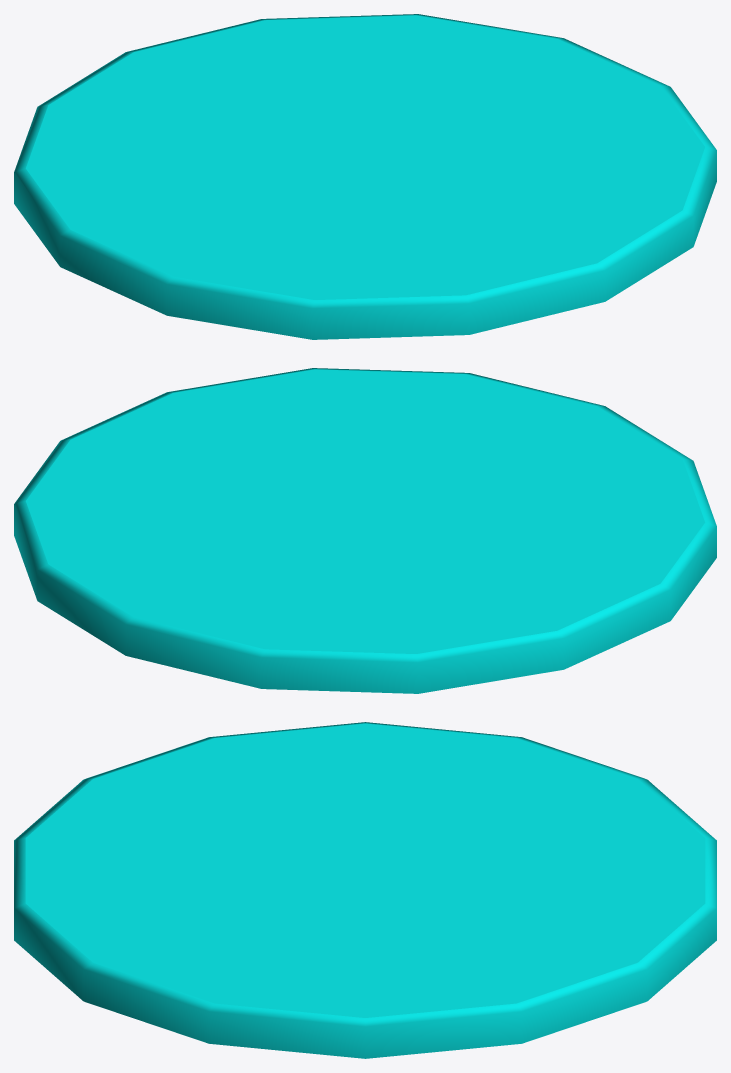
Rendered from SM_Prop_Car_Podium_02_Platform_01_Collision.fbx.
3 renders of one model, top to bottom at view 1: azimuth 30°, elevation 25°; view 2: azimuth 150°, elevation 25°; view 3: azimuth 270°, elevation 25°, orthographic. The views are drawn at different scales.
Visible parts, largest first — view 1: SM_Prop_Car_Podium_02_Platform_01_Collision; view 2: SM_Prop_Car_Podium_02_Platform_01_Collision; view 3: SM_Prop_Car_Podium_02_Platform_01_Collision.
Part boxes in pixels (left/top/right/bottom): SM_Prop_Car_Podium_02_Platform_01_Collision: left=14, top=14, right=716, bottom=339; SM_Prop_Car_Podium_02_Platform_01_Collision: left=14, top=368, right=716, bottom=693; SM_Prop_Car_Podium_02_Platform_01_Collision: left=14, top=722, right=716, bottom=1058.
Size of the model in its own units: 622 by 33.94 by 606.
